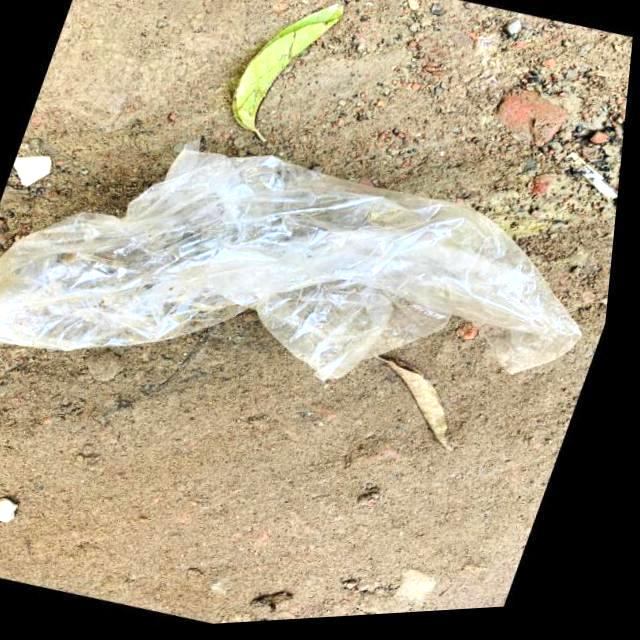polythene: (29, 180, 521, 362)
